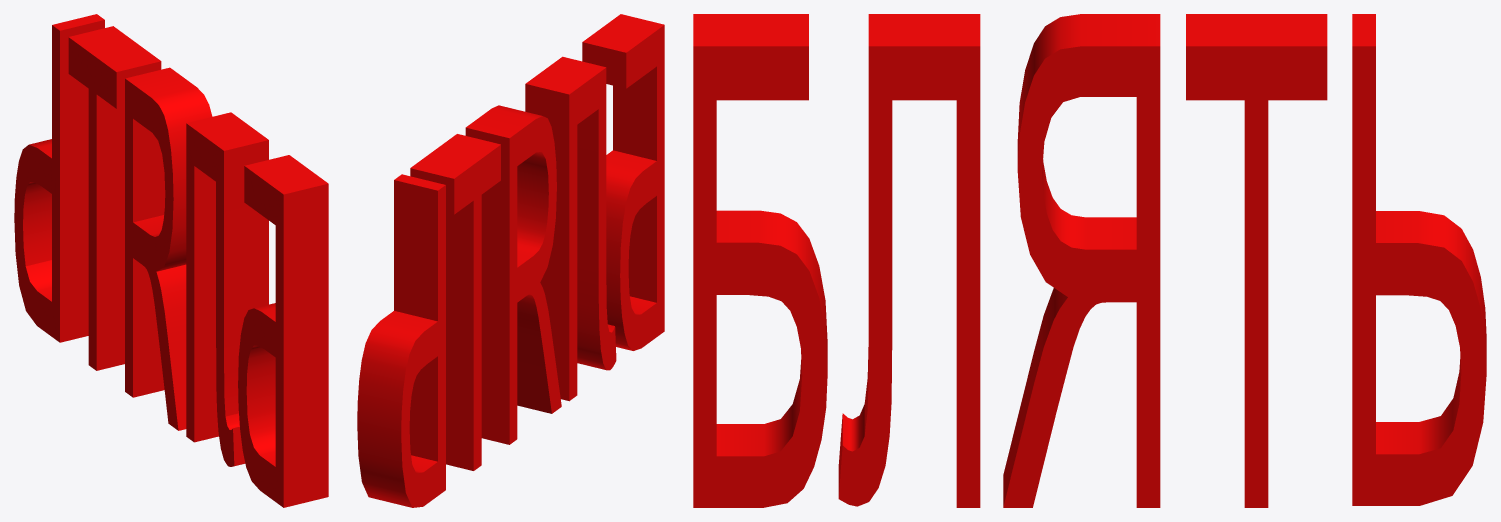
Rendered from blyat.obj.
3 views of the same model, side by side, from view 1: azimuth 30°, elevation 25°; view 2: azimuth 150°, elevation 25°; view 3: azimuth 270°, elevation 25° (orthographic). The views are drawn at different scales.
Visible parts, largest first — view 1: Text.001; view 2: Text.001; view 3: Text.001.
Boxes of the visible parts, x1,y1,x2,y2 form: Text.001: [14, 14, 328, 507]; Text.001: [357, 14, 664, 507]; Text.001: [693, 14, 1486, 507].
Bounding box in the file's own units: 0.3 × 2 × 3.12.
